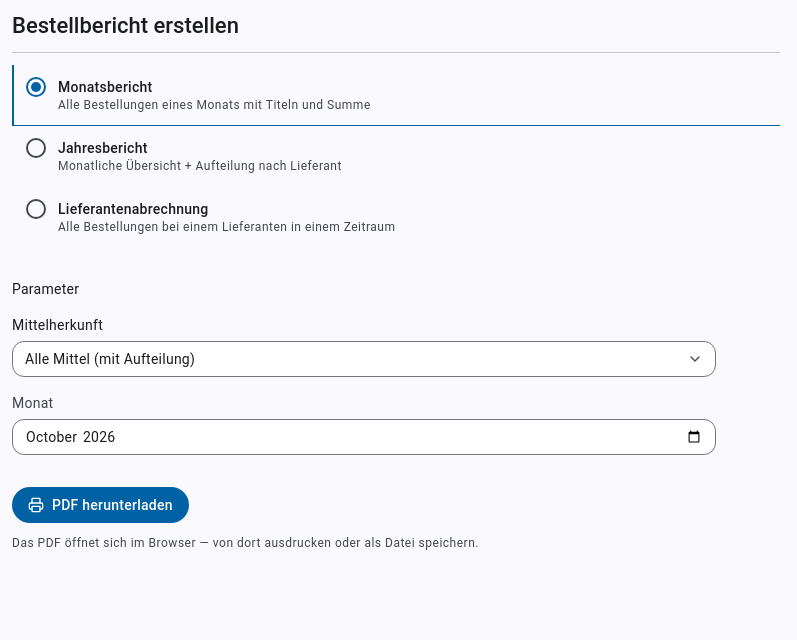
Bestellwesen: eine Liste kommt nicht › die Berichte sagen beim Lieferanten, dass die Liste nicht kam
The width and height of the screenshot is (797, 640).
Click the 3rd radio button at point(36, 209), box [16,189,56,229]
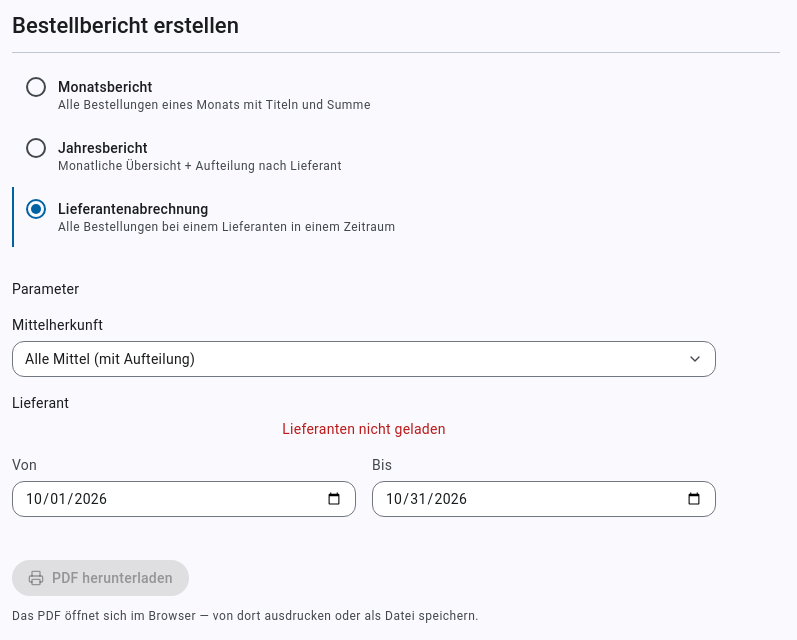
Result: the text "Lieferanten nicht geladen" is shown at [282,421,446,437]
